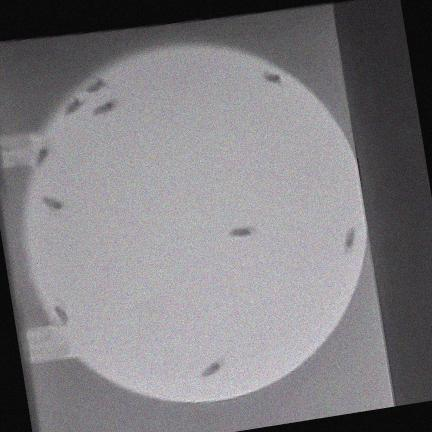fly: (94, 99, 118, 115), (202, 360, 224, 376), (43, 196, 65, 212), (35, 145, 51, 166), (65, 97, 84, 113), (55, 305, 69, 325), (85, 78, 106, 91), (231, 225, 255, 236), (344, 228, 355, 251), (264, 72, 281, 84)
